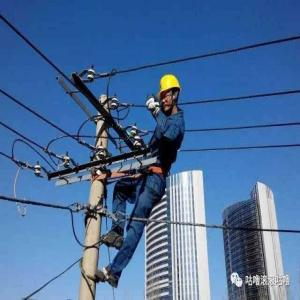yellow: (157, 72, 183, 117)
